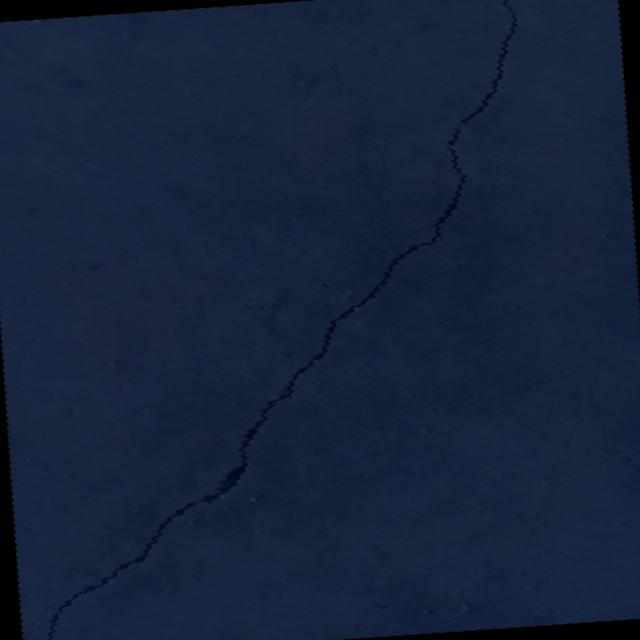crack: (0, 0, 597, 640), (587, 423, 640, 480)
